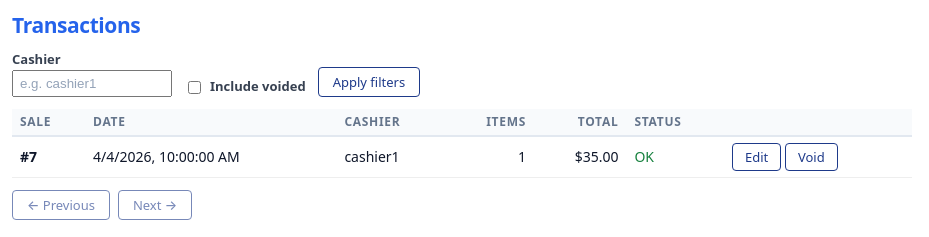
Test: TransactionsPage › voids a sale after confirm and flags the row
The image size is (929, 237).
expect the text "#7" is shown: met, box x1=12 y1=136 x2=85 y2=177
expect the text "OK" is shown: met, box x1=626 y1=136 x2=724 y2=177
Step 1. Click the button with aria-label "void sale 7" → (811, 157), box x1=785 y1=143 x2=838 y2=171
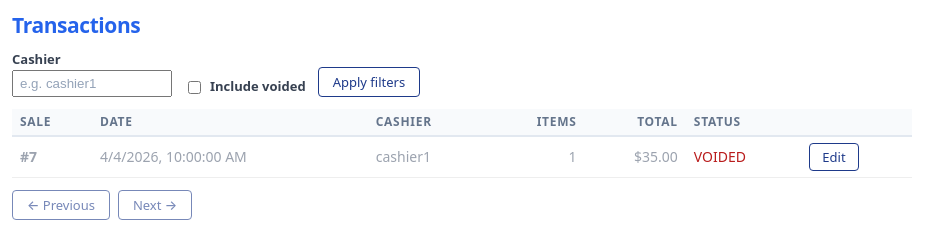
expect the text "VOIDED" is shown: met, box x1=686 y1=136 x2=801 y2=177
